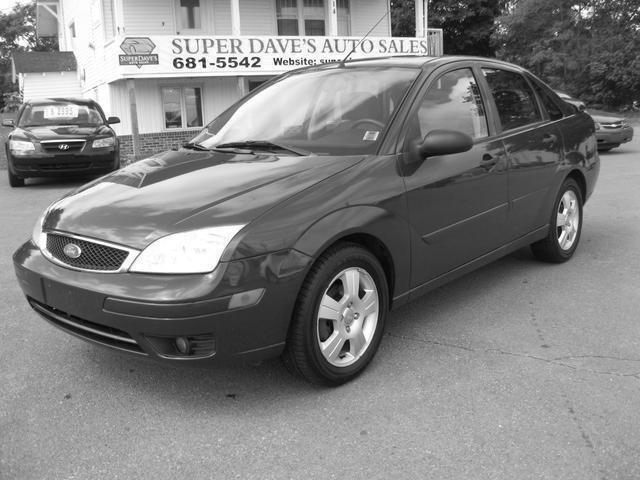car: (11, 57, 603, 386)
